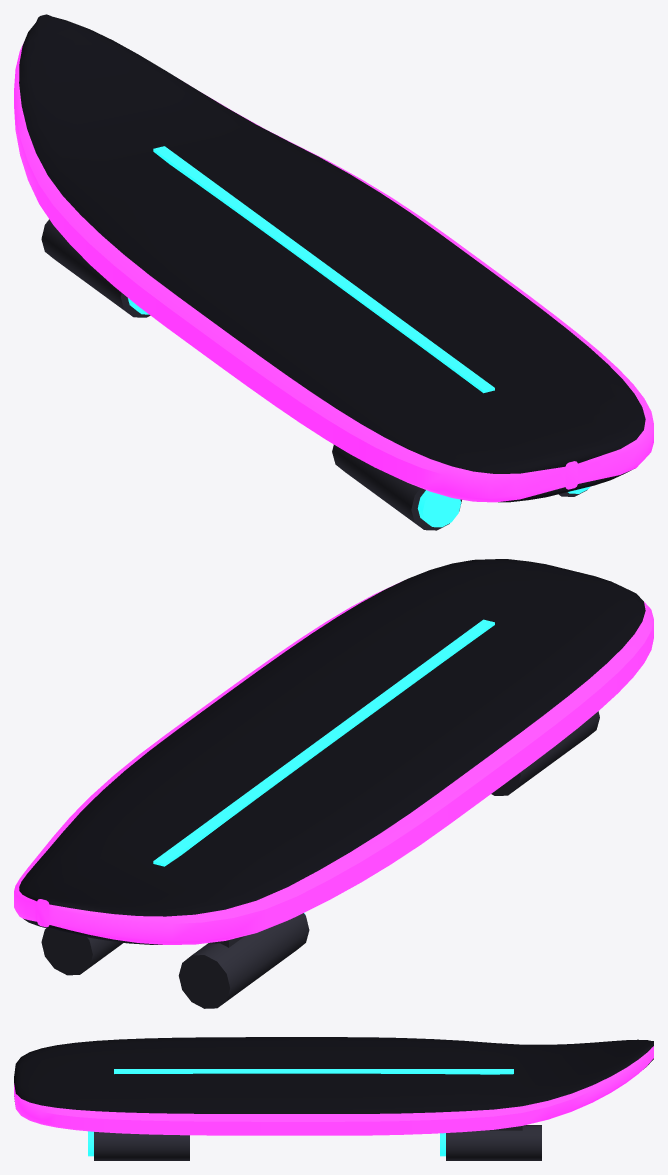
The model's file is hoverboard_neon.glb.
3 renders of one model, top to bottom at view 1: azimuth 30°, elevation 25°; view 2: azimuth 150°, elevation 25°; view 3: azimuth 270°, elevation 25°, orthographic. The views are drawn at different scales.
Visible parts, largest first — view 1: Hoverboard_Deck, Hoverboard_Thrusters; view 2: Hoverboard_Deck, Hoverboard_Thrusters; view 3: Hoverboard_Deck, Hoverboard_Thrusters.
Part boxes in pixels (x1,y1,x2,y2): Hoverboard_Deck: [14, 14, 653, 502]; Hoverboard_Thrusters: [41, 219, 590, 530]; Hoverboard_Deck: [14, 559, 653, 944]; Hoverboard_Thrusters: [41, 711, 599, 1008]; Hoverboard_Deck: [14, 1037, 653, 1135]; Hoverboard_Thrusters: [88, 1125, 541, 1160].
Size of the model in its own units: 0.4952 by 0.2676 by 1.6.
